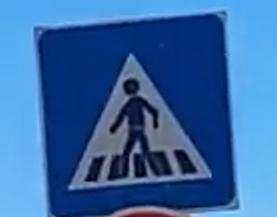Passagem para peoes: (32, 9, 240, 217)
